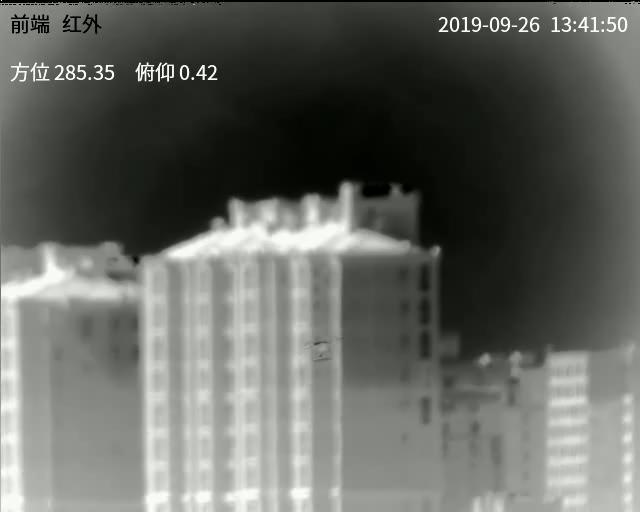uav: (297, 334, 345, 364)
